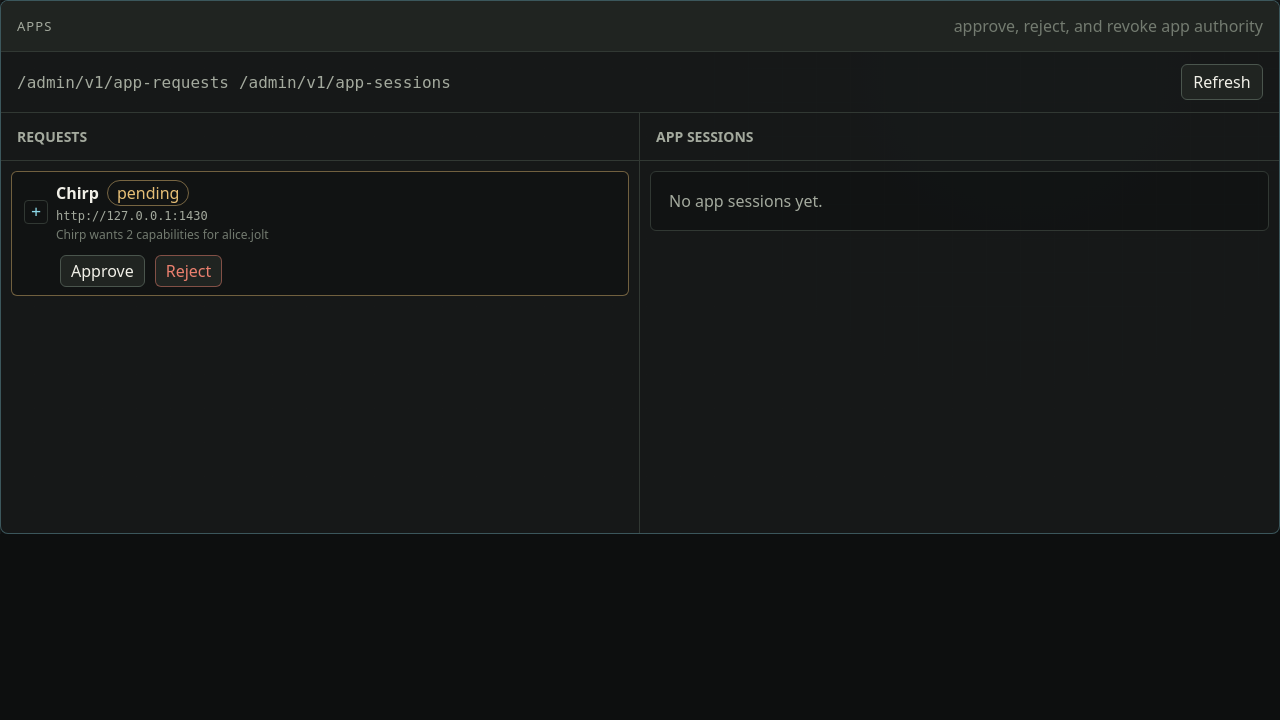
Scenario: Console section pages › blocks a subscription for a malformed exact identity
Click the button named "request details" at {"x": 77, "y": 193}, box [20, 180, 620, 243]
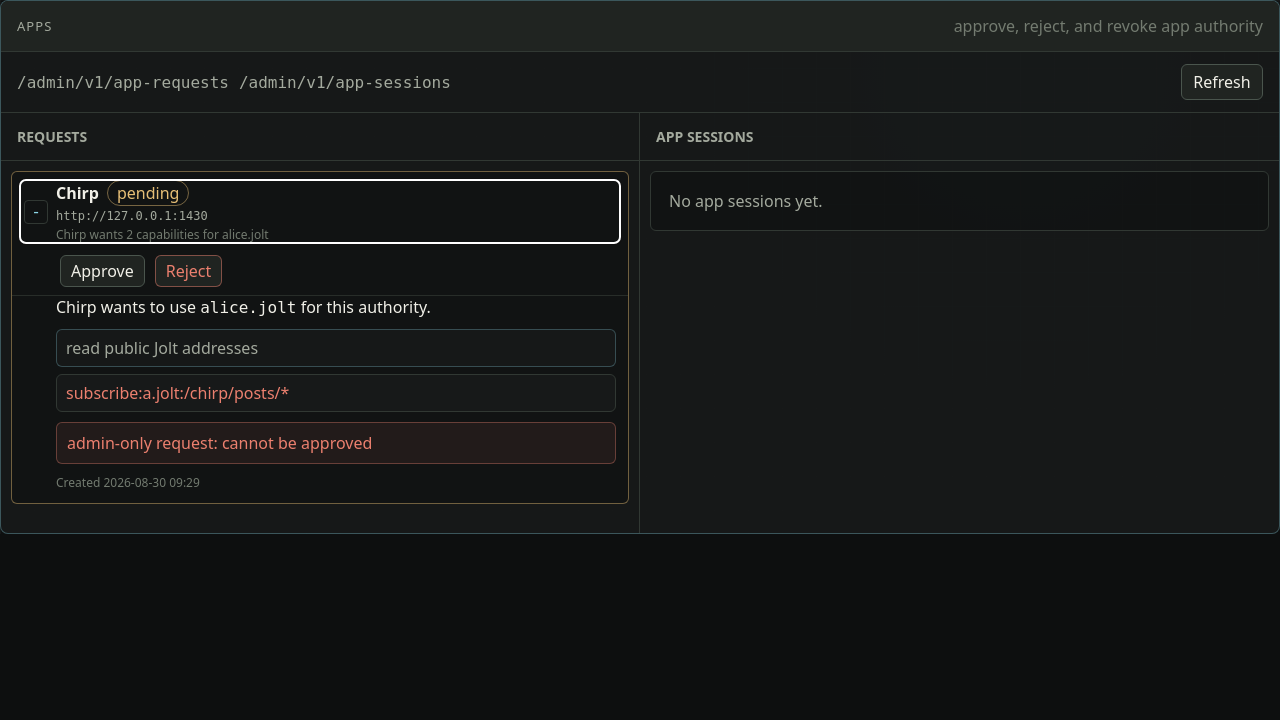
Expected: the button with aria-label "Approve Chirp" is disabled, [60, 255, 145, 287]
Expected: the text "admin-only request: cannot be approved" is shown, [56, 422, 616, 464]
Expected: the text "subscribe:a.jolt:/chirp/posts/*" is shown, [66, 382, 289, 404]
